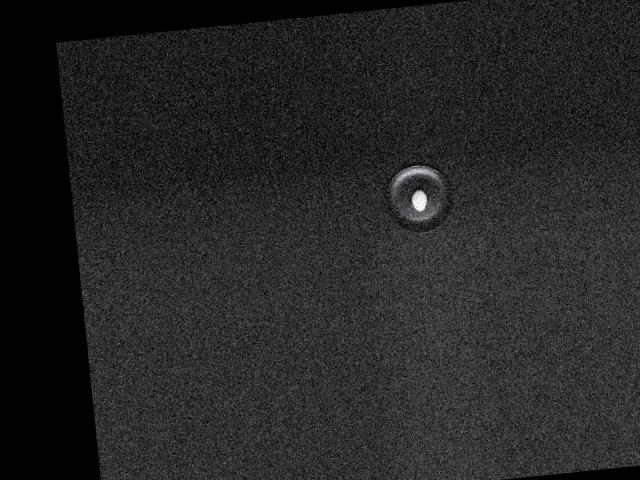egg: (411, 188, 428, 211)
